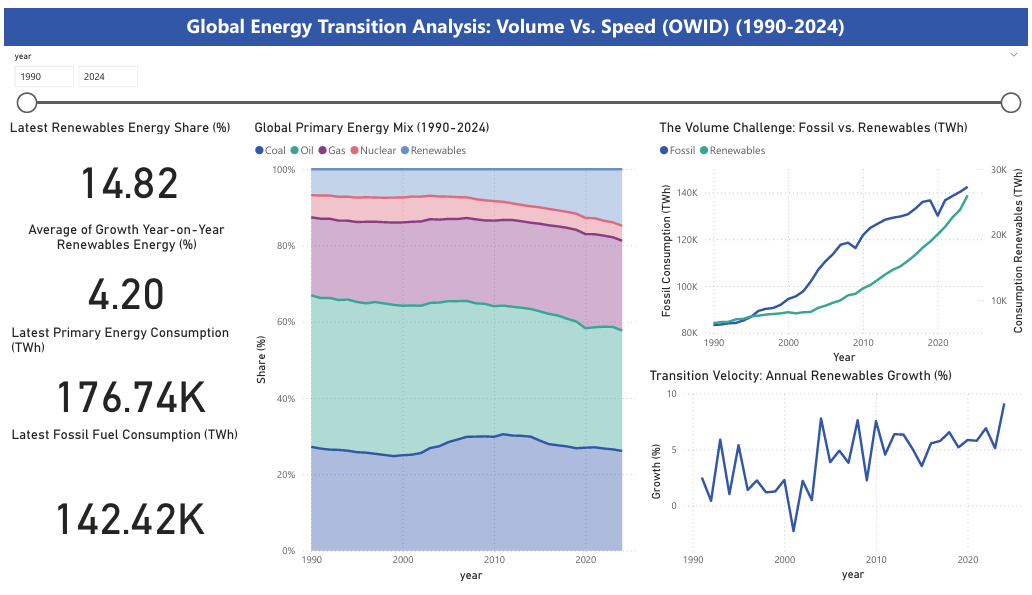

Layout of this report page (visuals, bound fields, positions):
{"tool":"powerbi","page":{"name":"Page 1","canvas":[1280,720],"ordinal":0},"visuals":[{"type":"textbox","box":[0,0,1280,47.5],"z":0},{"type":"card","title":"Latest Primary Energy Consumption (TWh)","fields":{"Values":["Avg(world_consumption_energy.primary_energy_consumption)"]},"box":[4,394,306,128],"z":1000},{"type":"card","title":"Latest Renewables Energy Share (%)","fields":{"Values":["Sum(world_consumption_energy.renewables_share_energy)"]},"box":[2,138,306,128],"z":2000},{"type":"slicer","fields":{"Values":["world_consumption_energy.year"]},"box":[0,48,1280,90],"z":3000},{"type":"hundredPercentStackedAreaChart","title":"Global Primary Energy Mix (1990-2024)","fields":{"Category":["world_consumption_energy.year"],"Y":["Avg(world_consumption_energy.coal_share_energy)","Avg(world_consumption_energy.oil_share_energy)","Avg(world_consumption_energy.gas_share_energy)","Avg(world_consumption_energy.nuclear_share_energy)","Sum(world_consumption_energy.renewables_share_energy)"]},"box":[308,138,494,582],"z":4000},{"type":"card","title":"Average of Growth Year-on-Year Renewables Energy (%)","fields":{"Values":["Avg(world_consumption_energy.renewables_yoy_growth_pct)"]},"box":[0,266,306,128],"z":5000},{"type":"lineChart","title":"The Volume Challenge: Fossil vs. Renewables (TWh)","fields":{"Category":["world_consumption_energy.year"],"Y":["Sum(world_consumption_energy.fossil_fuel_consumption)"],"Y2":["Sum(world_consumption_energy.renewables_consumption)"]},"box":[814,138,466,310],"z":6000},{"type":"lineChart","title":"Transition Velocity: Annual Renewables Growth (%)","fields":{"Category":["world_consumption_energy.year"],"Y":["Sum(world_consumption_energy.renewables_yoy_growth_pct)"]},"box":[802,448,478,272],"z":7000},{"type":"card","title":"Latest Fossil Fuel Consumption (TWh)","fields":{"Values":["Sum(world_consumption_energy.fossil_fuel_consumption)"]},"box":[4,522,304,198],"z":7001}]}

Visuals, with their boxes in screenshot pixels (x1, y1, x2, y2), scaled from the page's 1280x720 canvas onto the 1032x595 screenshot:
textbox: locate(0, 0, 1031, 39)
"Latest Primary Energy Consumption (TWh)" card: locate(3, 326, 250, 431)
"Latest Renewables Energy Share (%)" card: locate(2, 114, 248, 220)
slicer - world_consumption_energy.year: locate(0, 40, 1031, 114)
"Global Primary Energy Mix (1990-2024)" hundredPercentStackedAreaChart: locate(248, 114, 647, 594)
"Average of Growth Year-on-Year Renewables Energy (%)" card: locate(0, 220, 247, 326)
"The Volume Challenge: Fossil vs. Renewables (TWh)" lineChart: locate(656, 114, 1031, 370)
"Transition Velocity: Annual Renewables Growth (%)" lineChart: locate(647, 370, 1031, 594)
"Latest Fossil Fuel Consumption (TWh)" card: locate(3, 431, 248, 594)
